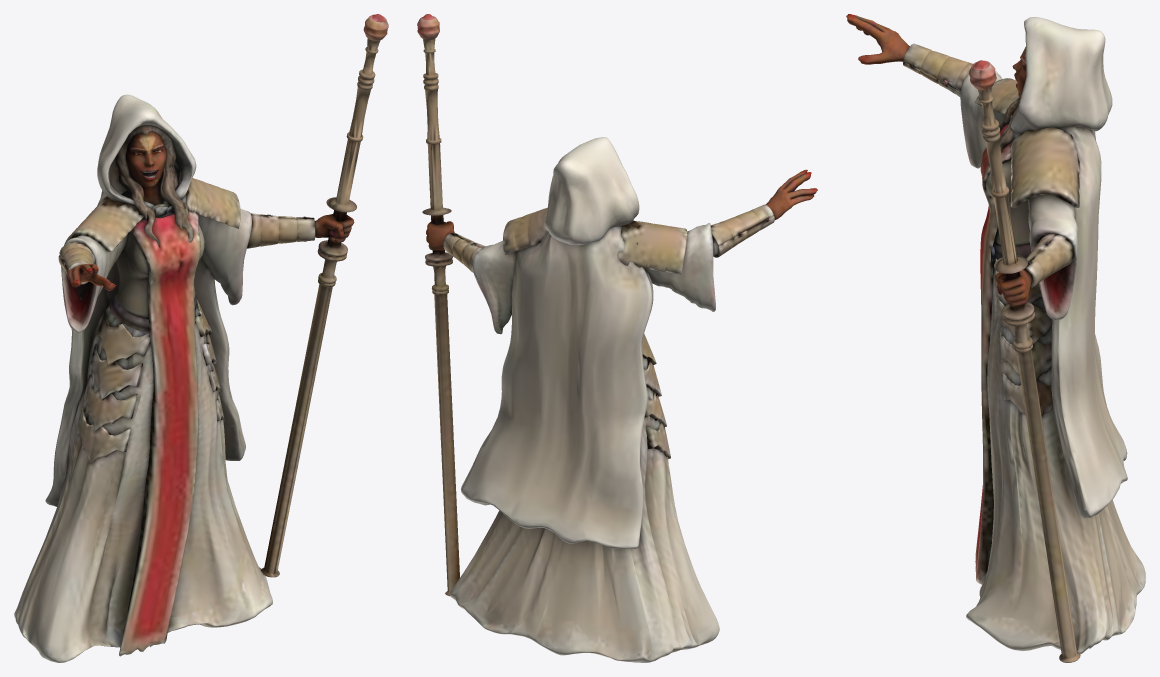
The model's file is MZ4250 - Archpriest Female_2 2025.glb.
The picture shows the model from 3 angles, left to right: view 1: azimuth 30°, elevation 25°; view 2: azimuth 150°, elevation 25°; view 3: azimuth 270°, elevation 25°; orthographic projection. The views are drawn at different scales.
Parts seen in each view (by area): view 1: Stuff.003; view 2: Stuff.003; view 3: Stuff.003.
Part boxes in pixels (bbox=[...]): Stuff.003: bbox=[14, 14, 388, 662]; Stuff.003: bbox=[417, 14, 817, 662]; Stuff.003: bbox=[846, 14, 1145, 662].
Bounding box in the file's own units: 70.37 × 106 × 44.69.
3 materials, 3 textured.
